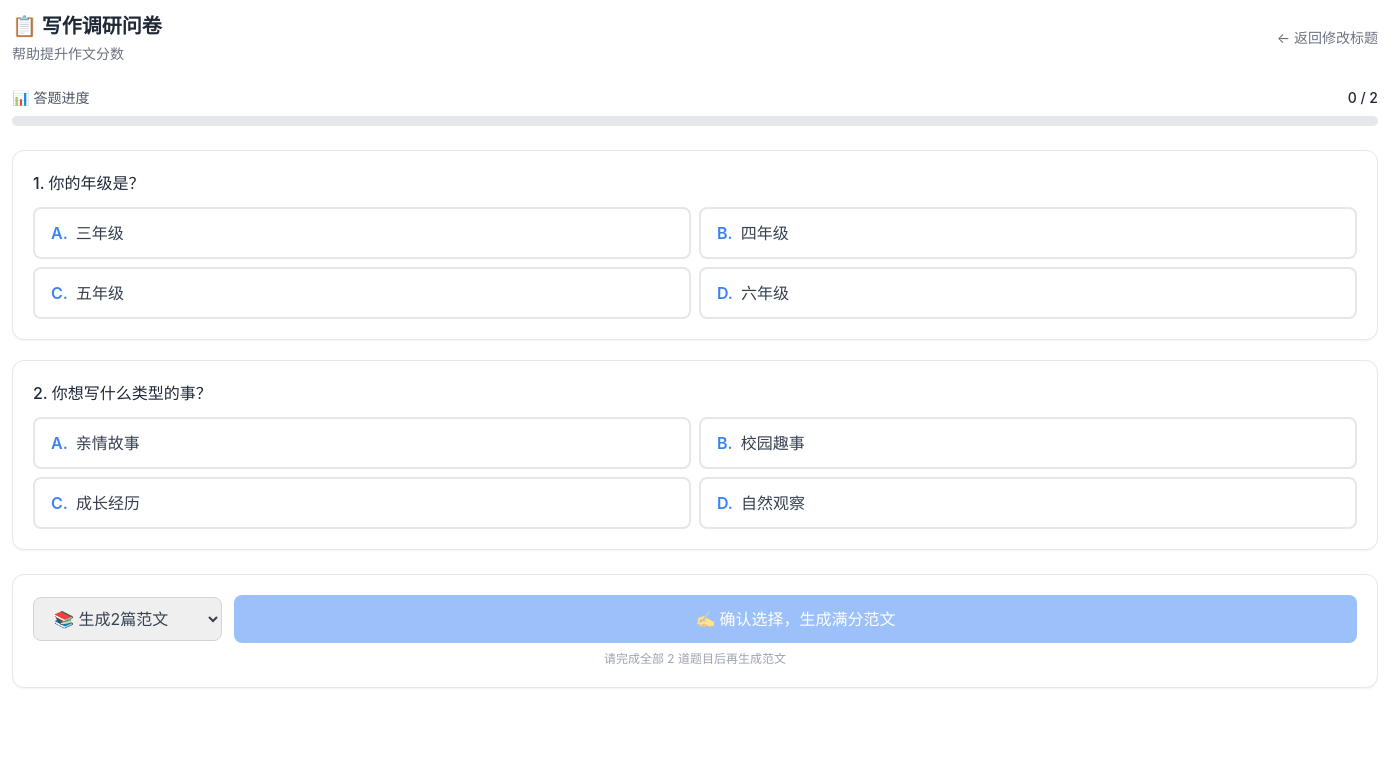
it: SurveyForm 组件 › 点击选项后应显示夸奖文字
Step 1. Click the text "三年级" → [100, 233], box [76,223,124,243]
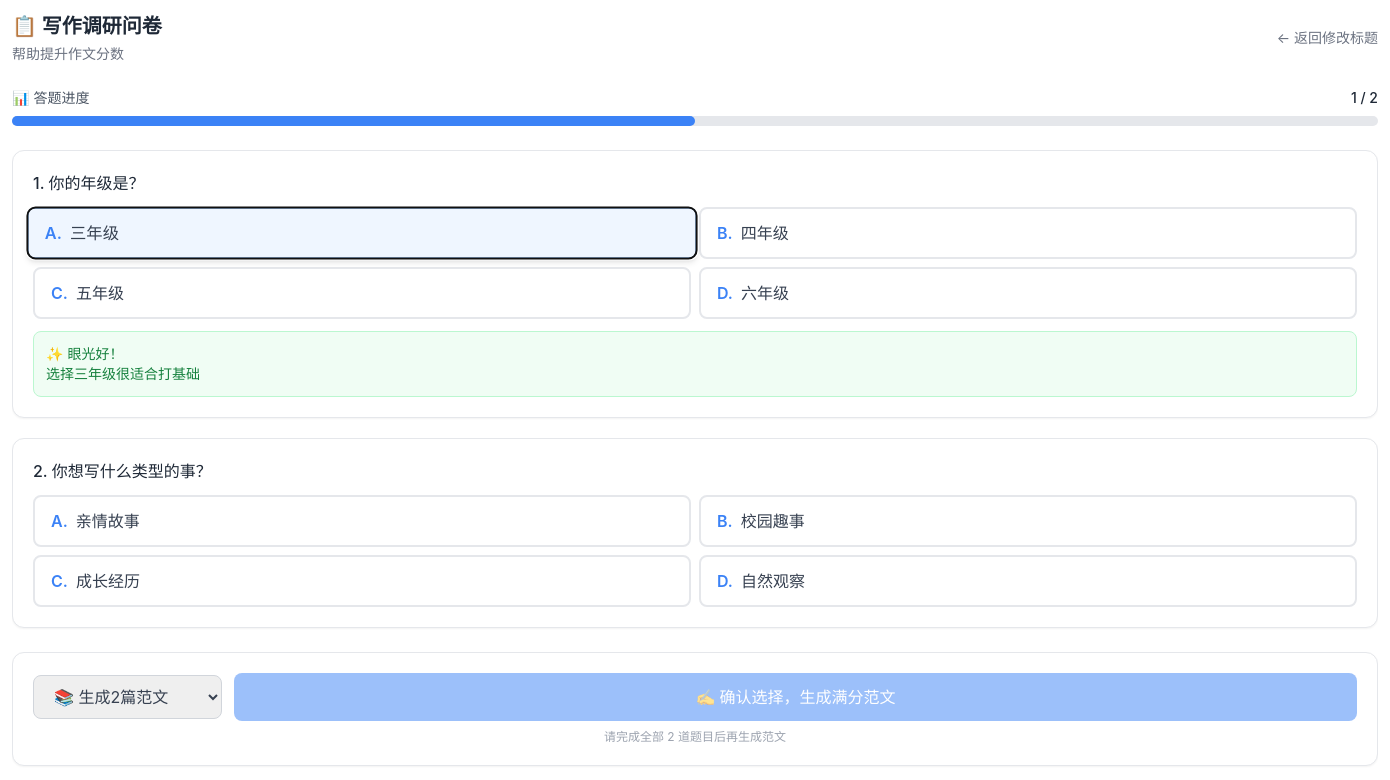
Check: the text "✨ 眼光好！ 选择三年级很适合打基础" is shown, box [46,345,200,382]
